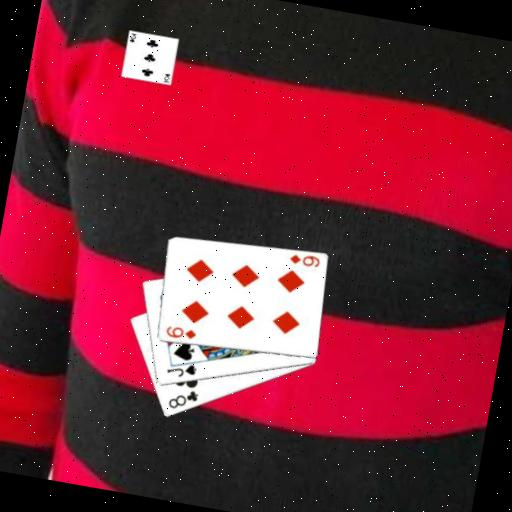6D: (161, 322, 198, 343), (285, 248, 321, 269)
8C: (164, 383, 200, 414)
JS: (162, 357, 198, 381)
